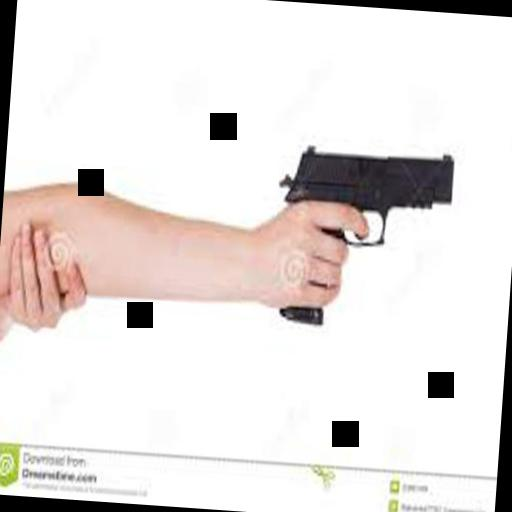Handgun: (269, 136, 458, 340)
